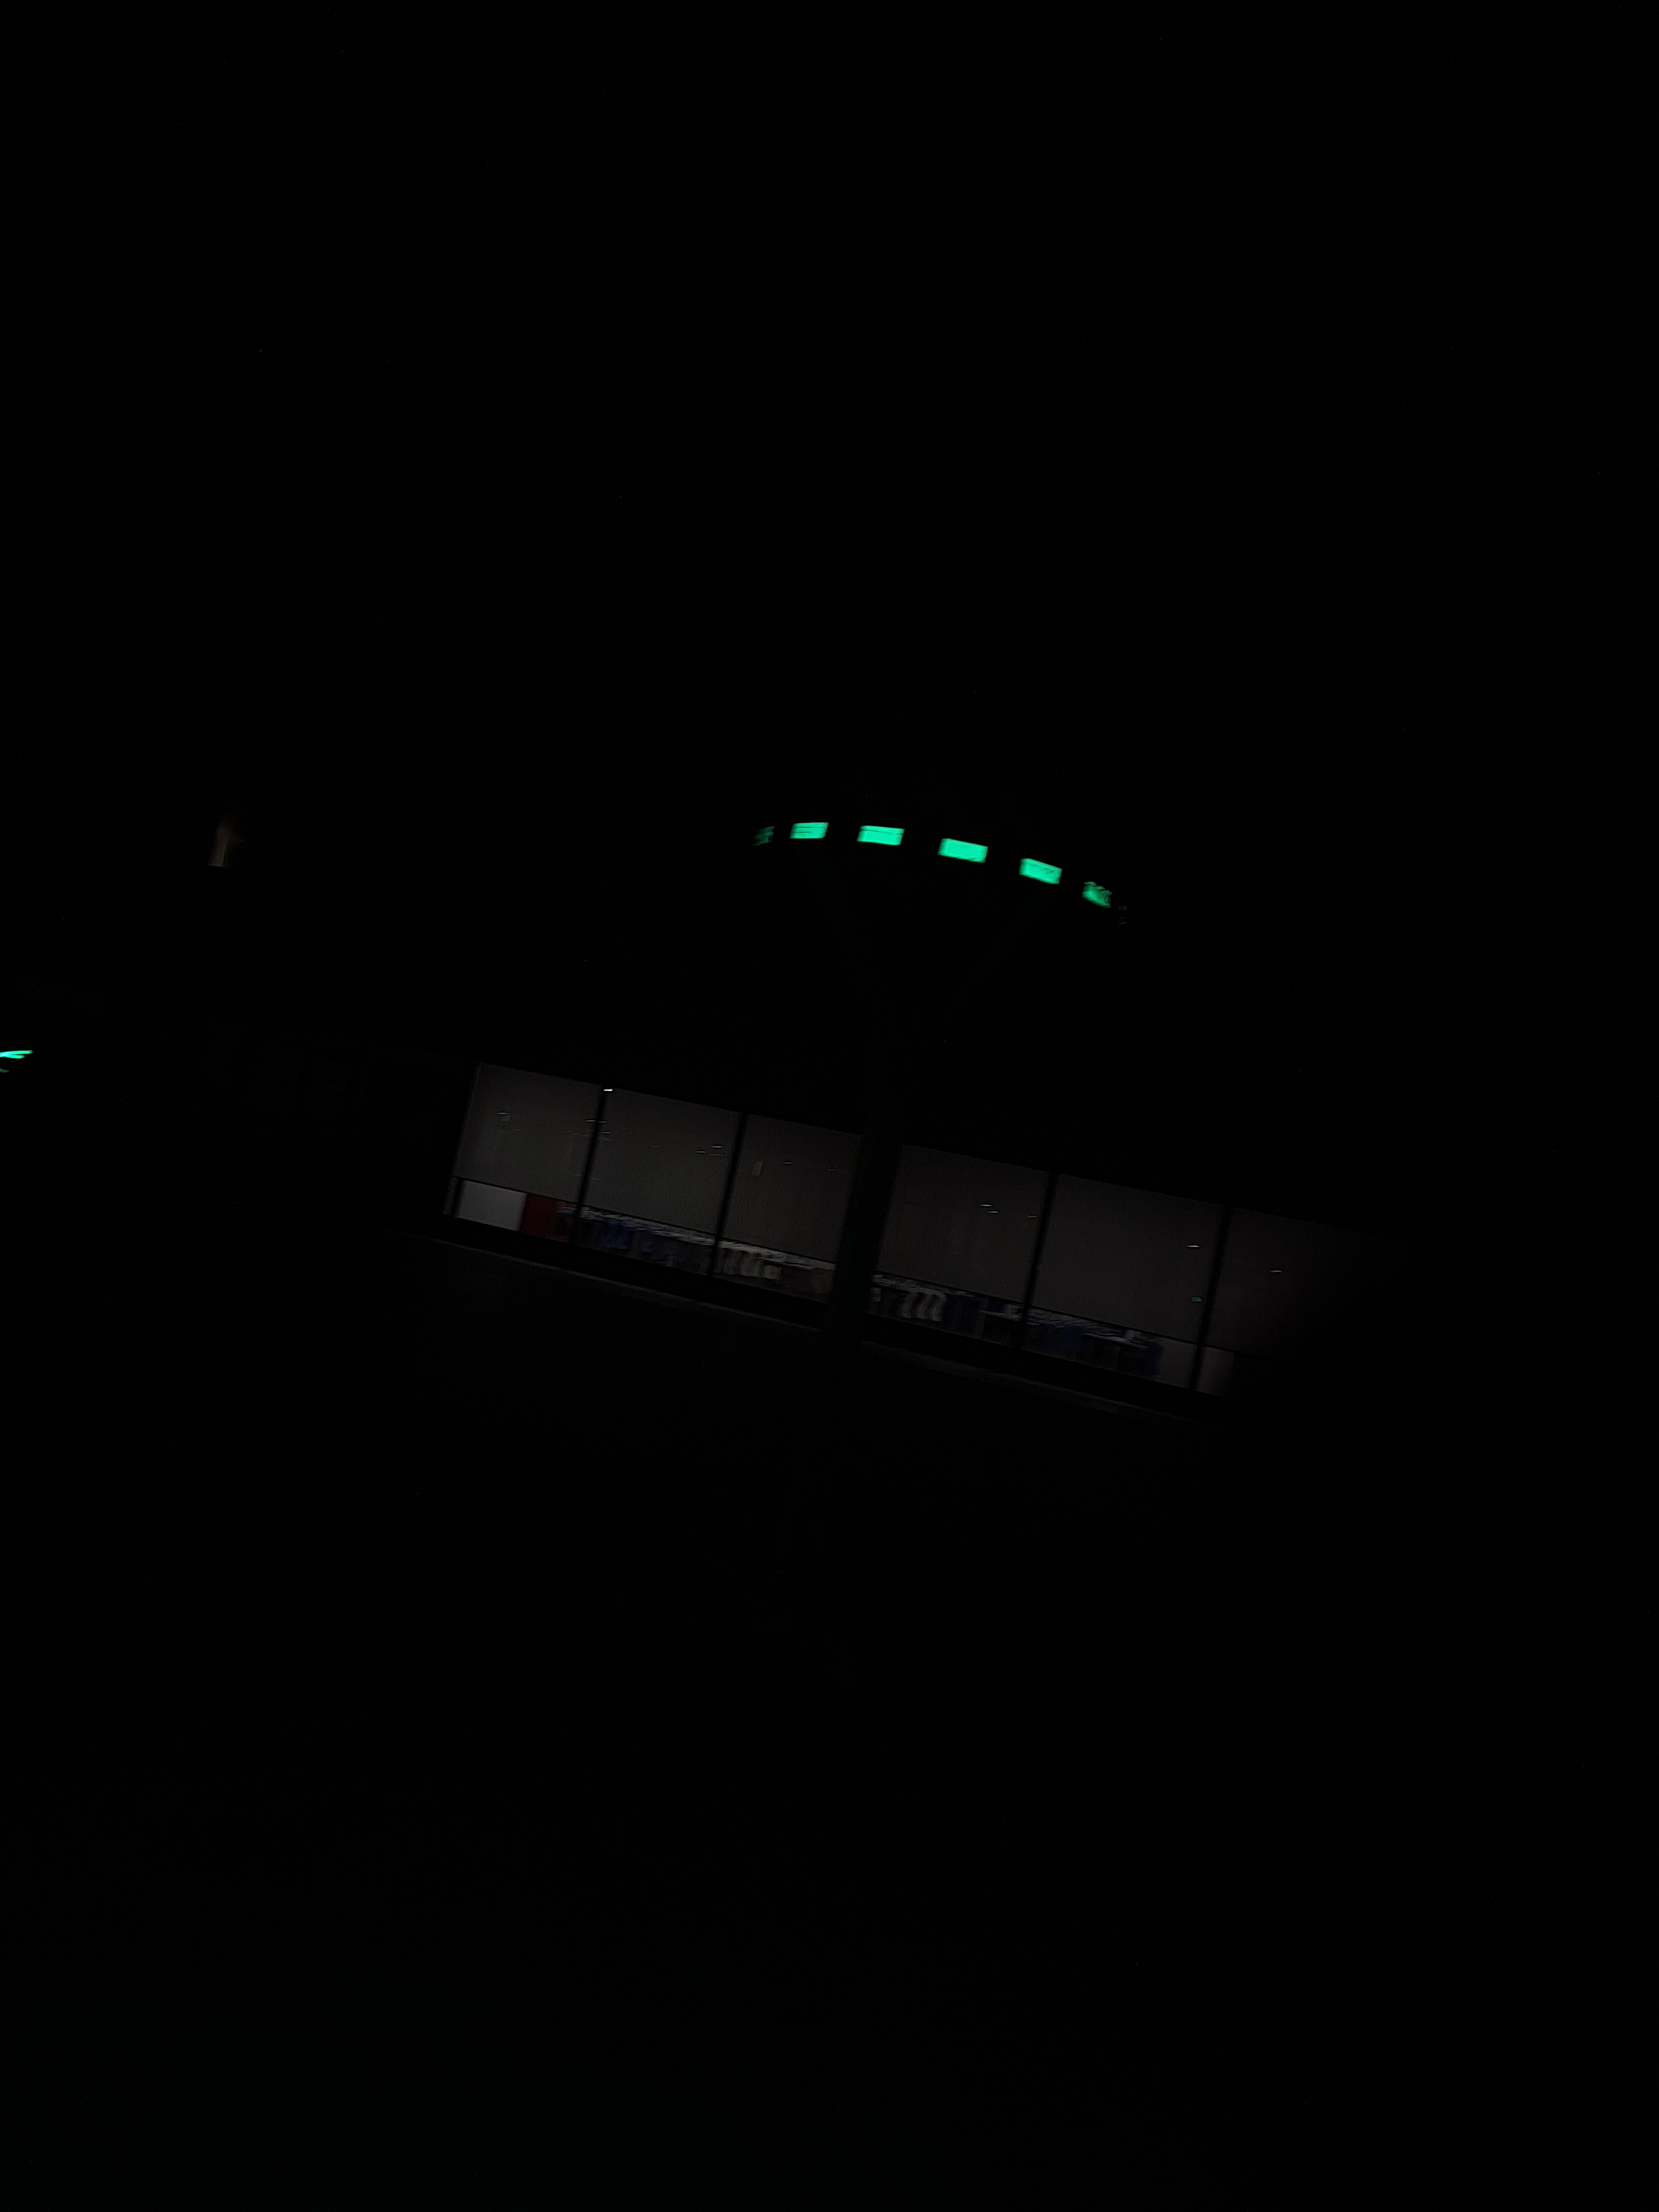hoop: (784, 812, 1115, 911)
